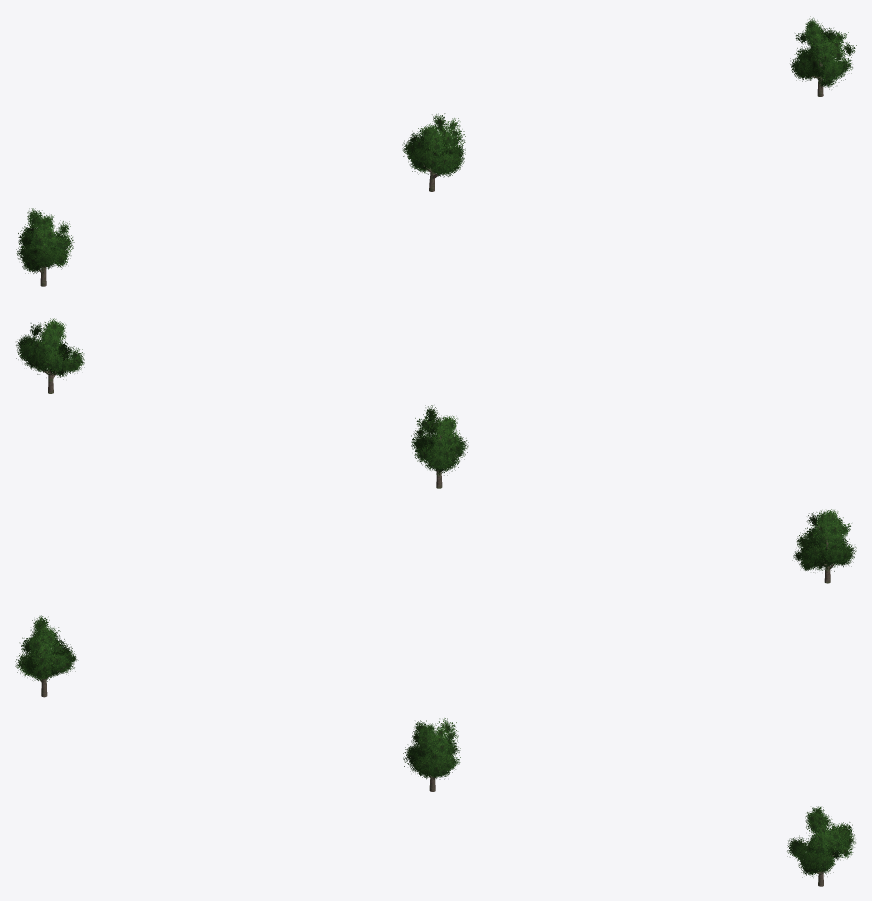
Rendered from broadleaf.glb.
3 views of the same model, one above another, from view 1: azimuth 30°, elevation 25°; view 2: azimuth 150°, elevation 25°; view 3: azimuth 330°, elevation 25° (orthographic).
Visible parts, largest first — view 1: broadleaf_leaves_21, broadleaf_leaves_8, broadleaf_leaves_3; view 2: broadleaf_leaves_3, broadleaf_leaves_21, broadleaf_leaves_8; view 3: broadleaf_leaves_21, broadleaf_leaves_8, broadleaf_leaves_3.
Boxes of the visible parts, x1,y1,x2,y2 form: broadleaf_leaves_21: (790, 16, 856, 89); broadleaf_leaves_8: (402, 113, 465, 177); broadleaf_leaves_3: (16, 208, 74, 273); broadleaf_leaves_3: (792, 509, 856, 573); broadleaf_leaves_21: (16, 318, 84, 379); broadleaf_leaves_8: (411, 405, 468, 475); broadleaf_leaves_21: (787, 806, 855, 877); broadleaf_leaves_8: (403, 718, 460, 779); broadleaf_leaves_3: (15, 615, 78, 682).
Size of the model in its own units: 129 by 11.41 by 11.35.
2 materials, 2 textured.
